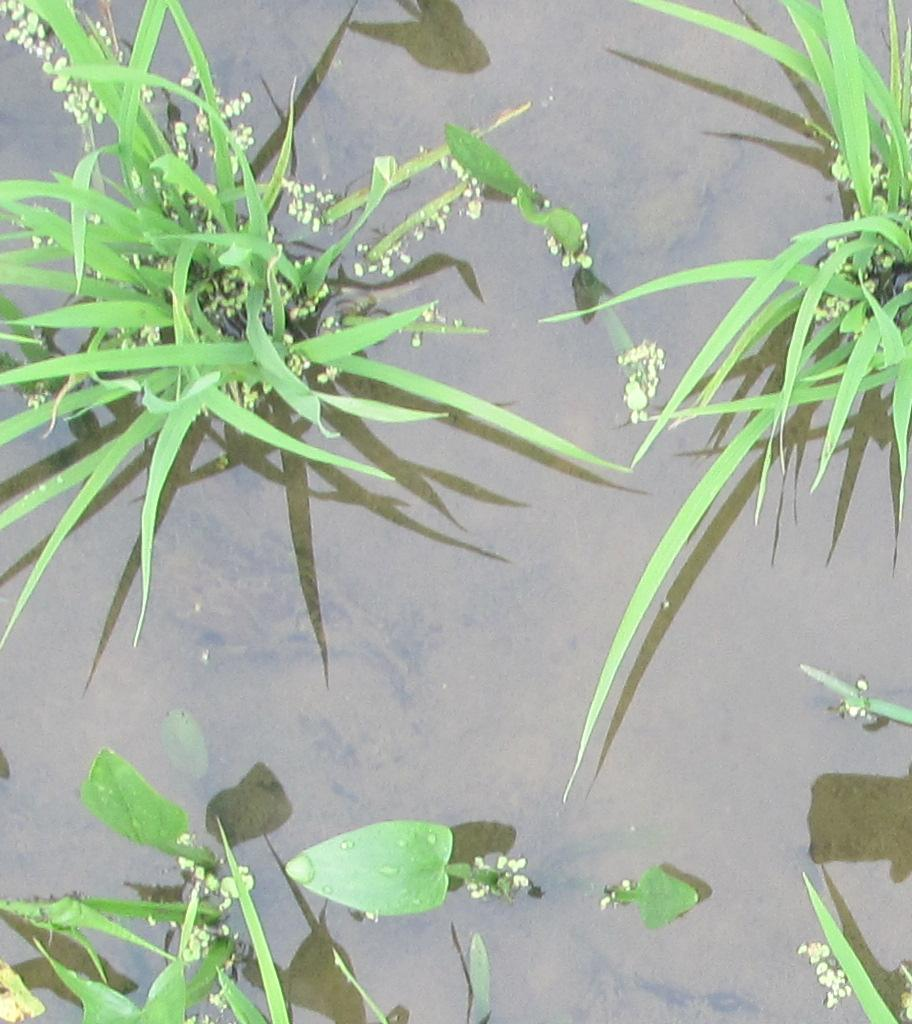Weed: (292, 811, 719, 950), (80, 746, 255, 1007)
